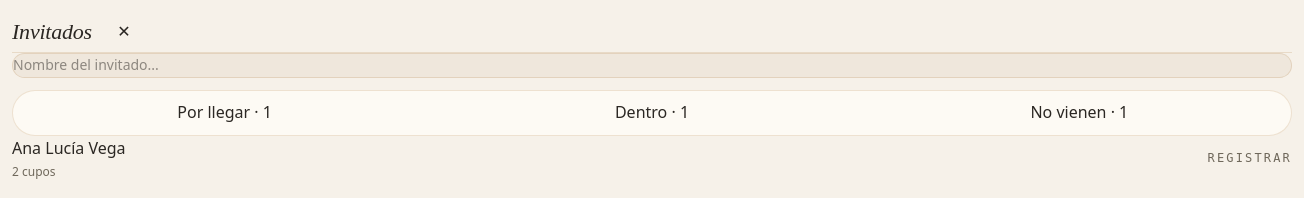
it: la lista de la puerta (9 oct: el portero ve quién falta y quién entró, sin poder editar nada) › una llegada sin personas anotadas (puertas antiguas) cuenta a todos dentro, no «0 de 3» (QA 9 oct)
Expected: the tab "Por llegar · 1" is shown, x1=13 y1=91 x2=436 y2=135
Click the tab "Dentro · 1".
click(652, 113)  # box x1=440 y1=91 x2=864 y2=135
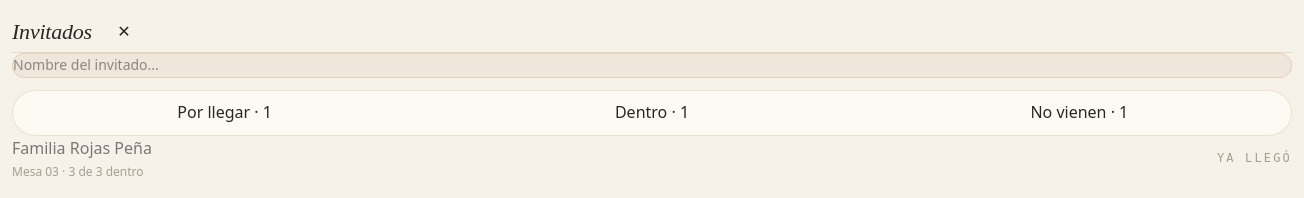
Result: the button "Familia Rojas Peña Mesa 03 · 3 de 3 dentro Ya llegó" is shown at x1=12 y1=136 x2=1292 y2=181
Result: the button "Familia Rojas Peña Mesa 03 · 3 de 3 dentro Ya llegó" is disabled at x1=12 y1=136 x2=1292 y2=181
